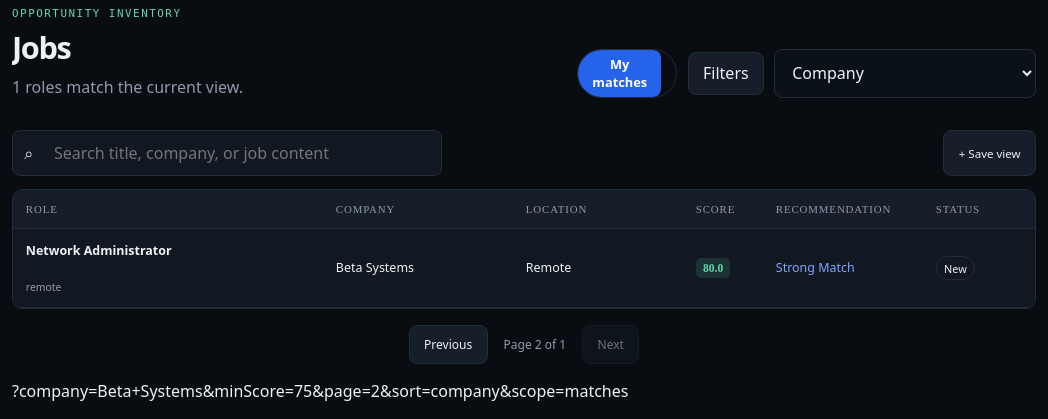
Test: dashboard UI › sends URL-backed filters to server search and replaces typing history
Expected: the text "Network Administrator" is shown, [26,242,172,259]
Type "security" into the field named "Search jobs". click: (236, 153)
box: [41,131,430,175]
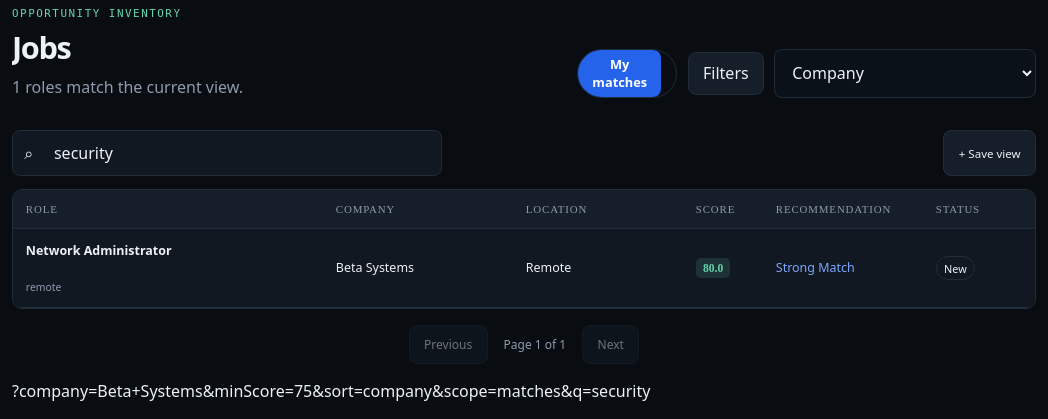
Now the text with test id "location" shows "q=security", box [12,380,650,402]
Now the text with test id "location" no longer shows "page=2", box [12,380,650,402]
